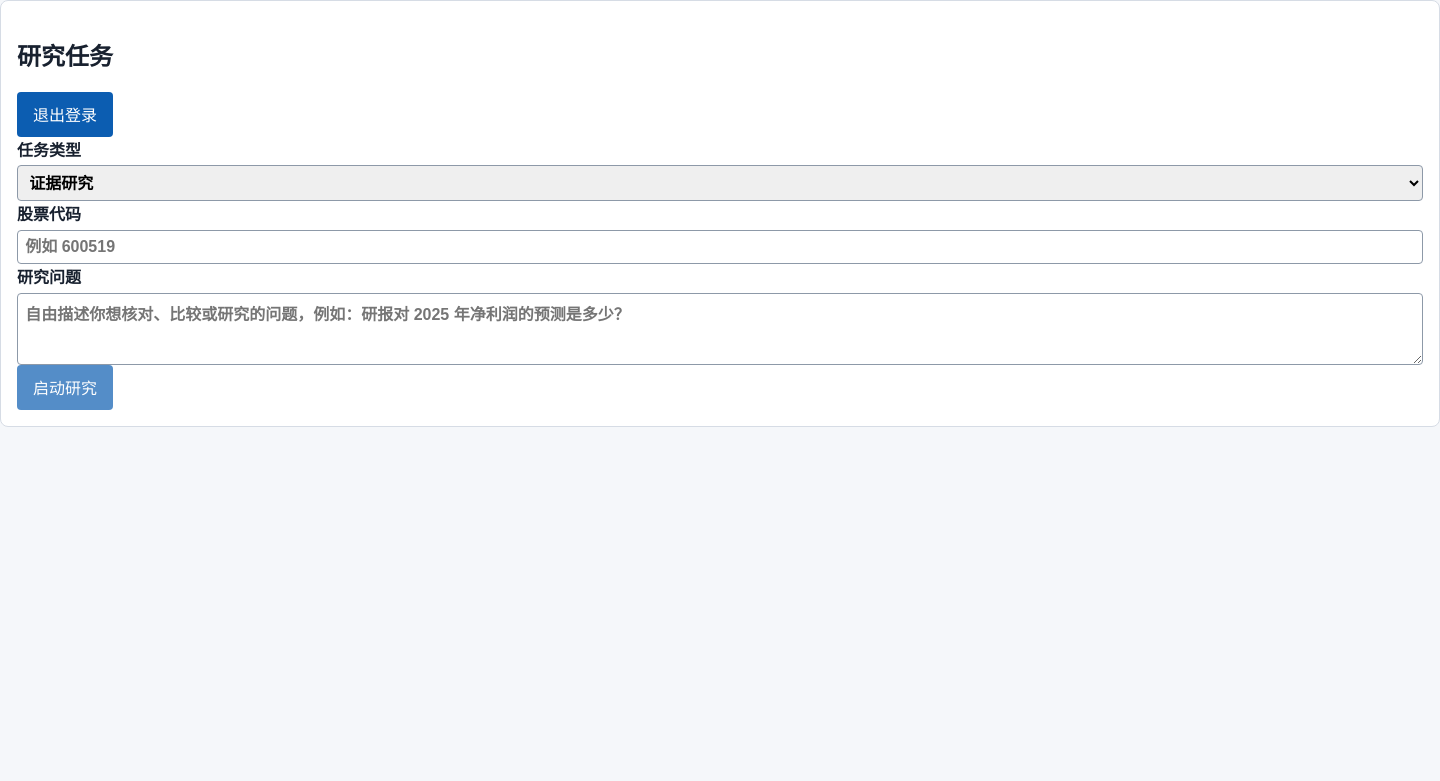
Scenario: agent run panel › creates a run and saves its ID for a later refresh
Type "600519" into the field labelled "股票代码" at x=720, y=247, box top-left (17, 230), bottom-right (1423, 264)
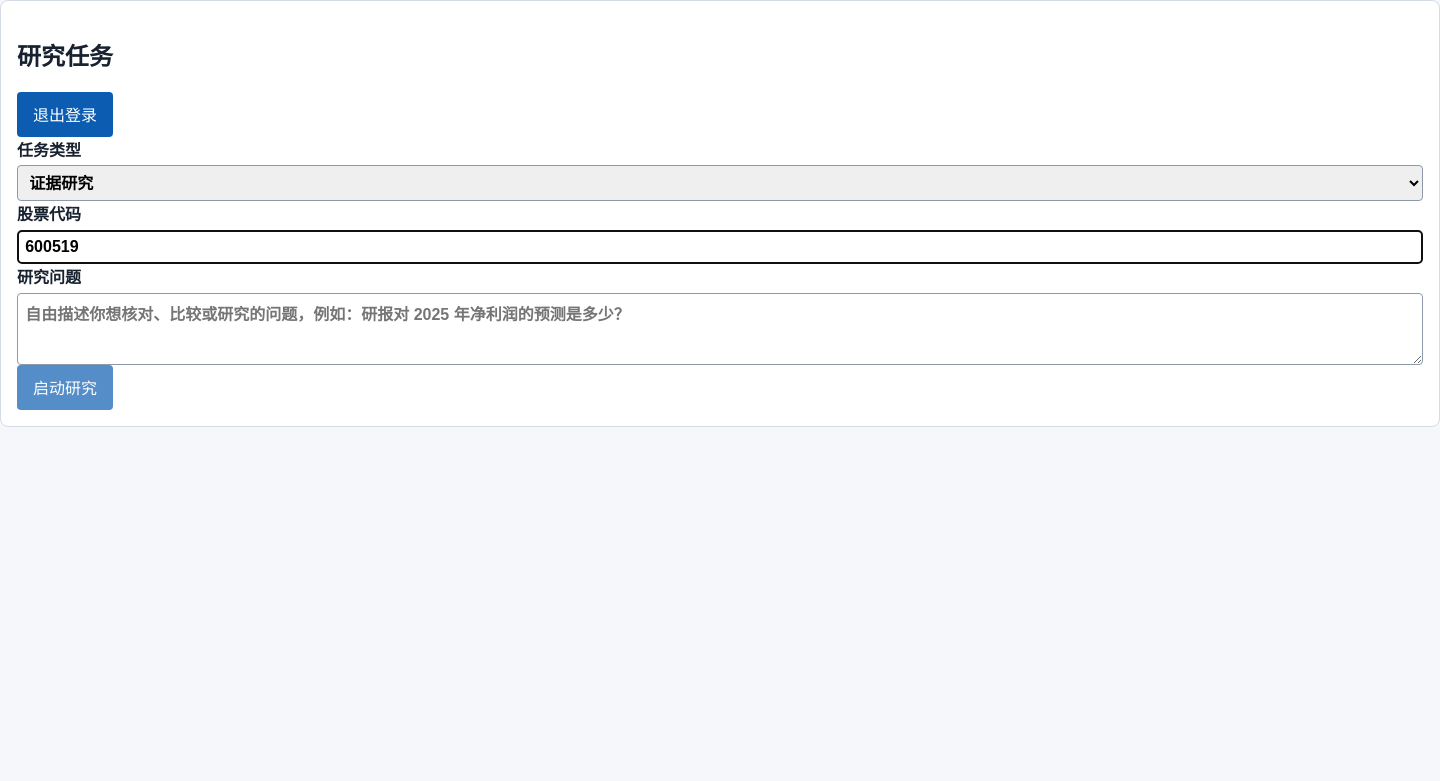
Type "总结贵州茅台的估值风险" into the text box labelled "研究问题" at x=720, y=329, box top-left (17, 293), bottom-right (1423, 365)
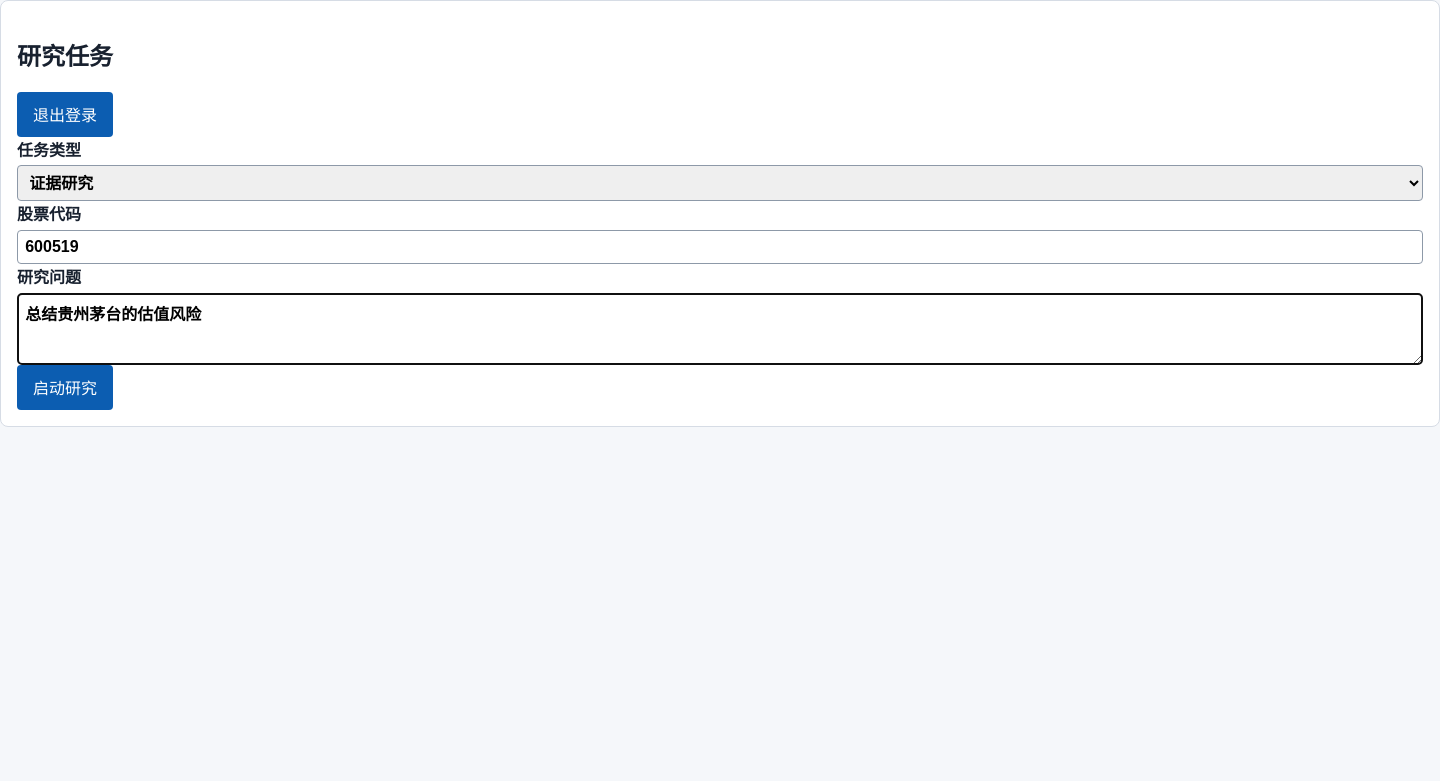
Click the button "启动研究" at x=65, y=387, box top-left (17, 365), bottom-right (113, 410)
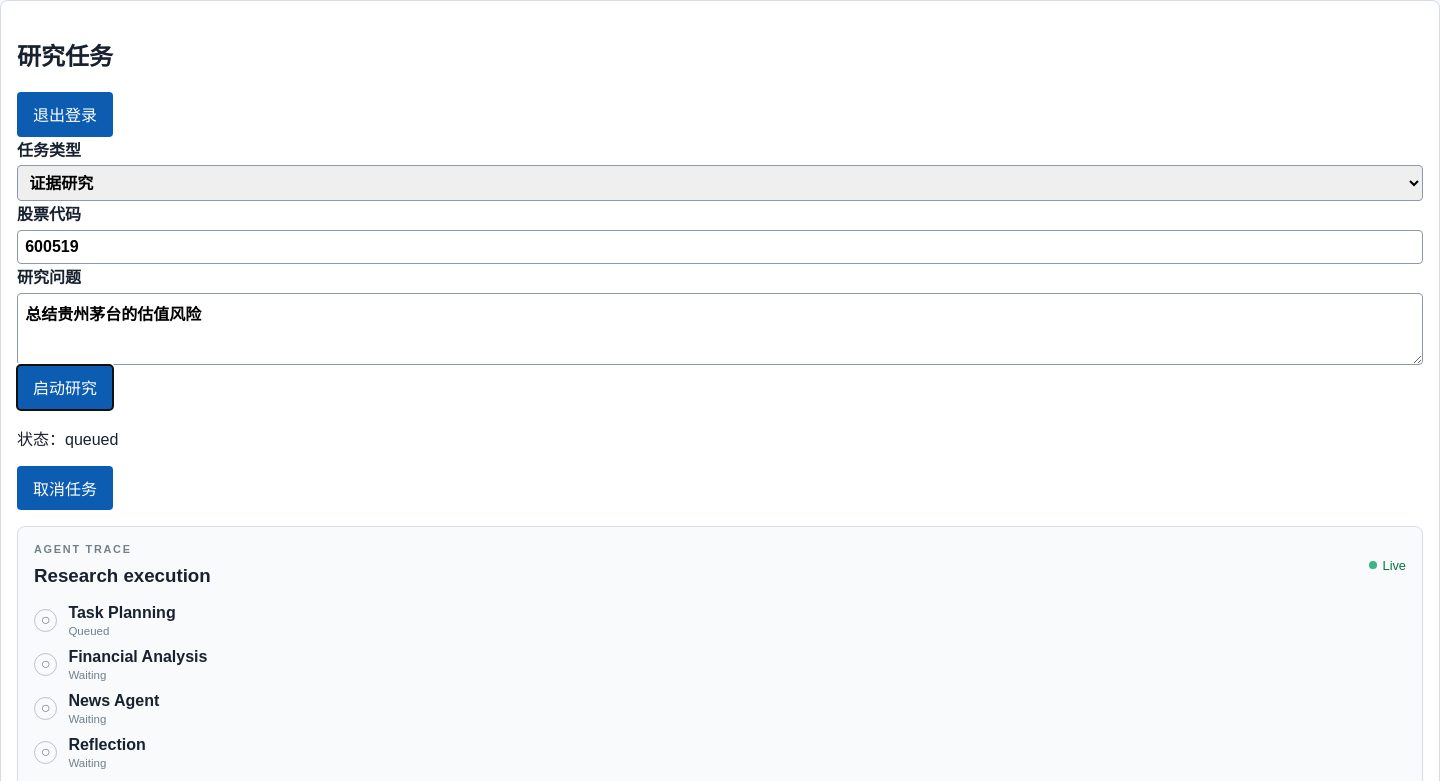
Expected: the text "状态：queued" is shown, top-left (17, 430), bottom-right (118, 448)
